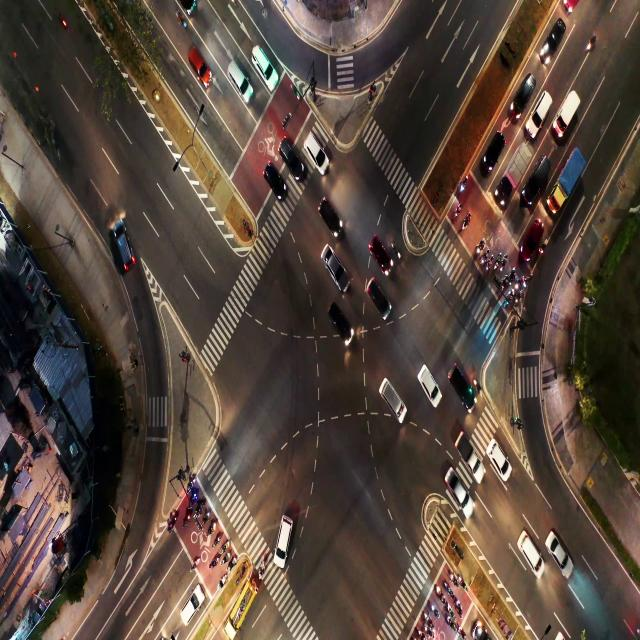bus: (238, 595, 249, 613)
car: (113, 226, 135, 269), (450, 368, 475, 405), (188, 44, 209, 84), (229, 60, 251, 98), (449, 478, 473, 512), (306, 131, 327, 167), (279, 142, 302, 172), (276, 519, 290, 568), (265, 158, 284, 193), (183, 588, 199, 626), (370, 283, 389, 314), (322, 199, 340, 231), (524, 538, 540, 571), (385, 384, 401, 414), (330, 310, 349, 335), (492, 440, 505, 475), (371, 238, 387, 266), (485, 135, 501, 163), (256, 52, 272, 79), (425, 368, 436, 407), (553, 538, 567, 566), (514, 84, 530, 108), (549, 21, 565, 45), (327, 252, 343, 274), (533, 159, 547, 182), (527, 222, 540, 246), (535, 98, 548, 118)
motorcycle: (258, 558, 265, 579), (392, 243, 400, 258), (500, 257, 508, 272), (476, 382, 484, 397), (423, 611, 433, 623), (177, 14, 186, 27), (291, 86, 300, 99), (192, 556, 200, 570), (436, 587, 444, 601), (170, 515, 177, 530), (460, 577, 467, 592), (416, 627, 424, 640), (183, 513, 190, 527), (447, 602, 454, 616), (450, 572, 458, 584), (460, 178, 467, 191), (463, 215, 470, 228), (507, 290, 514, 303), (187, 478, 194, 490), (220, 542, 228, 552), (220, 574, 226, 587), (195, 503, 202, 514), (501, 276, 506, 291), (458, 602, 463, 617), (222, 554, 228, 566), (447, 585, 453, 597), (426, 628, 434, 637), (209, 522, 216, 532), (477, 241, 484, 251), (510, 266, 515, 280), (203, 512, 209, 522), (216, 530, 221, 542), (455, 205, 460, 217), (459, 626, 465, 636), (431, 604, 437, 614), (189, 495, 196, 503), (231, 556, 235, 570), (517, 291, 522, 302), (517, 277, 522, 288), (541, 242, 546, 252), (488, 258, 493, 268), (449, 620, 454, 630), (496, 255, 500, 267), (525, 275, 529, 286), (212, 557, 216, 567), (483, 252, 487, 261)
truck: (458, 433, 481, 473), (558, 98, 578, 133), (558, 167, 574, 194), (511, 154, 524, 182)
